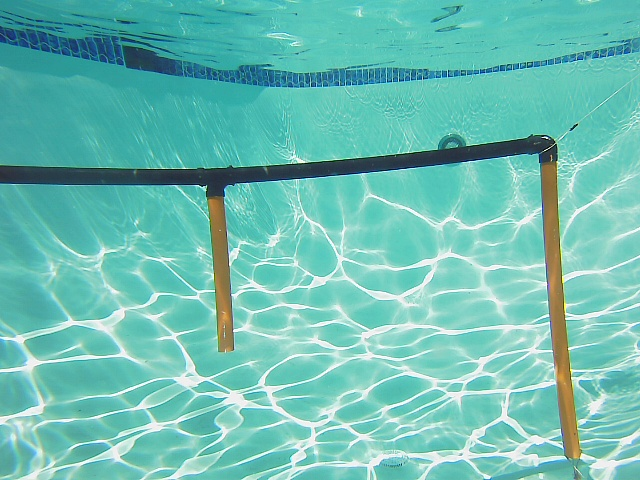Gate: (537, 156, 586, 462), (203, 191, 237, 358)
